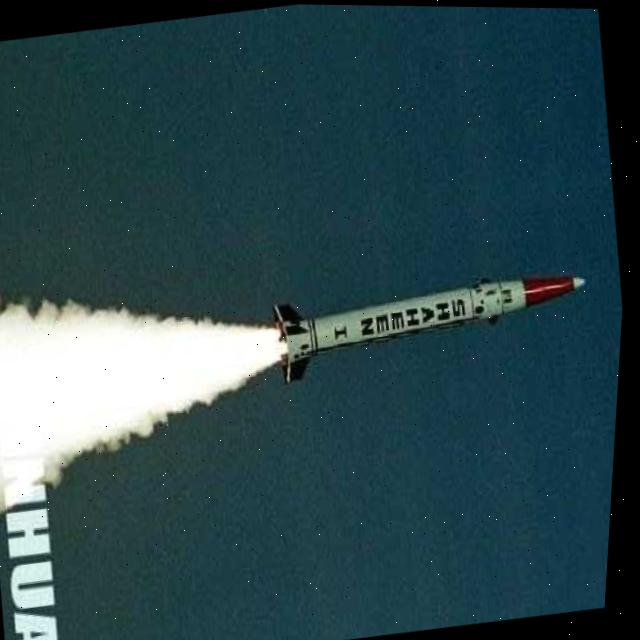missile: (274, 256, 600, 385)
